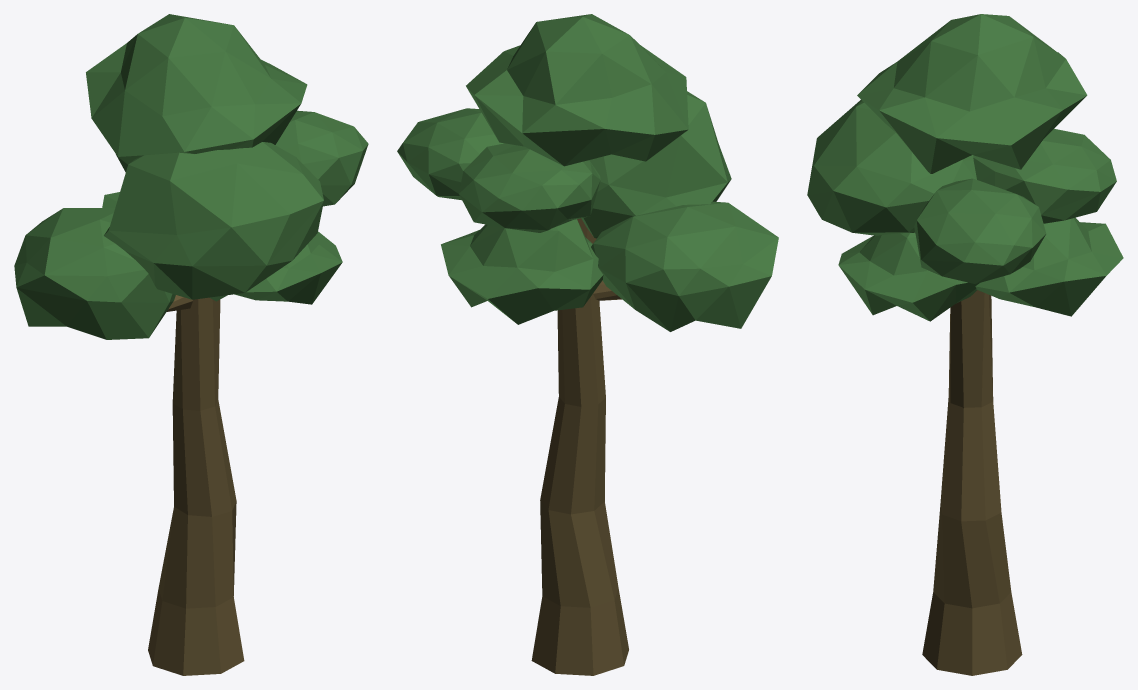
Rendered from Tree2.fbx.
The picture shows the model from 3 angles, left to right: view 1: azimuth 30°, elevation 25°; view 2: azimuth 150°, elevation 25°; view 3: azimuth 270°, elevation 25°; orthographic projection.
Parts seen in each view (by area): view 1: Icosphere.003; view 2: Icosphere.003; view 3: Icosphere.003.
Boxes of the visible parts, bbox=[...] form: Icosphere.003: bbox=[14, 14, 368, 675]; Icosphere.003: bbox=[397, 14, 778, 675]; Icosphere.003: bbox=[807, 14, 1123, 675].
Size of the model in its own units: 1854 by 3193 by 1437.
